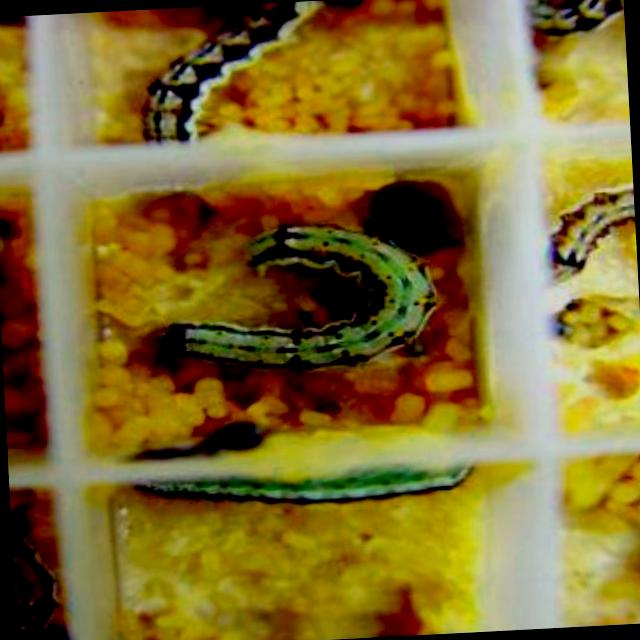Cotton bollworm: (120, 408, 490, 590), (131, 197, 464, 393), (118, 0, 386, 147), (526, 140, 640, 310), (515, 0, 627, 70)
